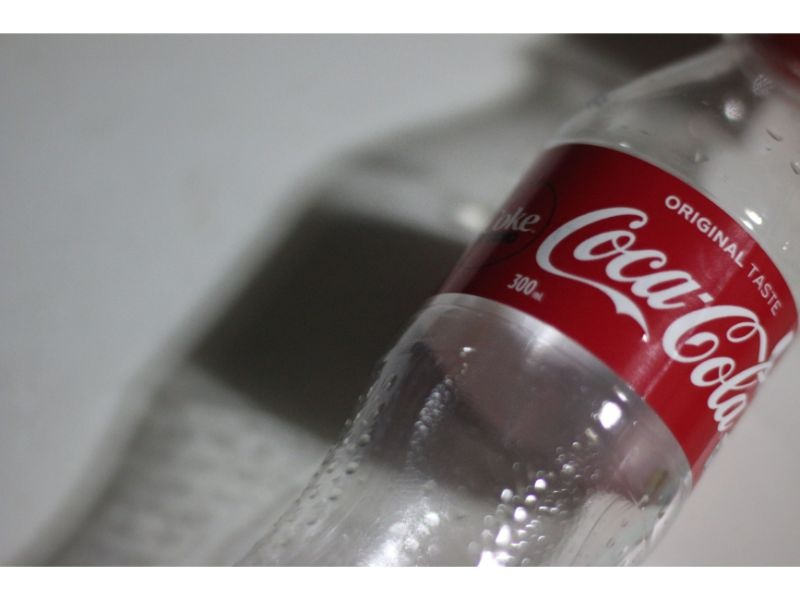PET #1: (229, 34, 800, 564)
